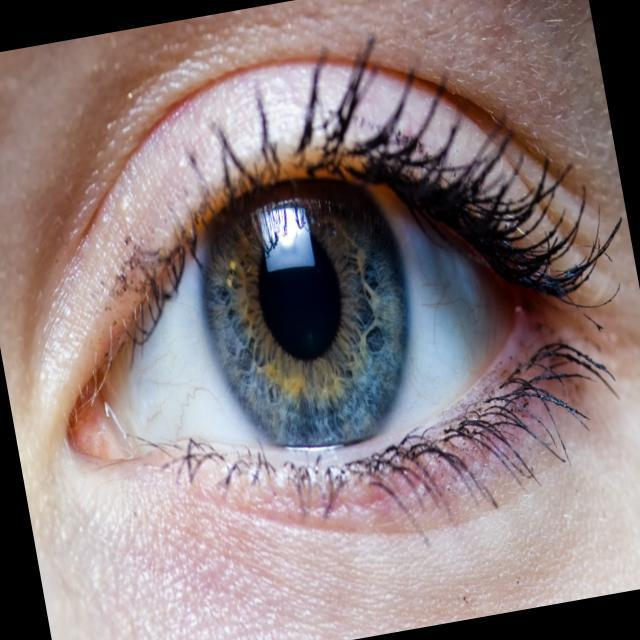Normal: (22, 76, 640, 540)
